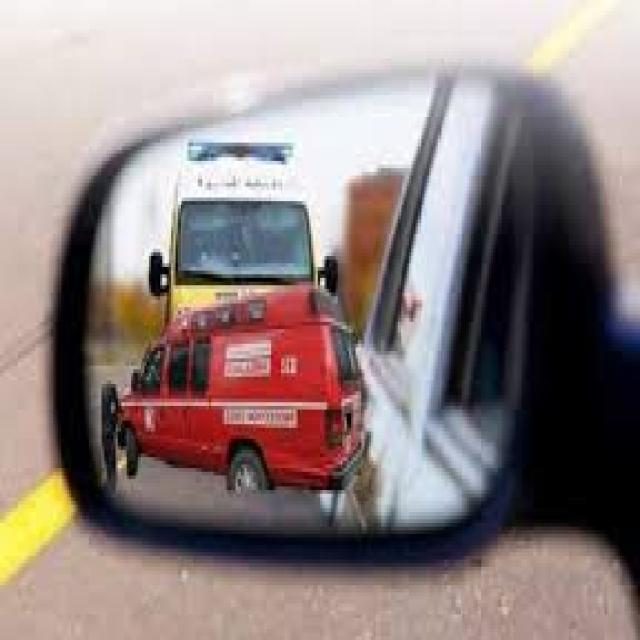ambulance: (120, 290, 359, 492)
